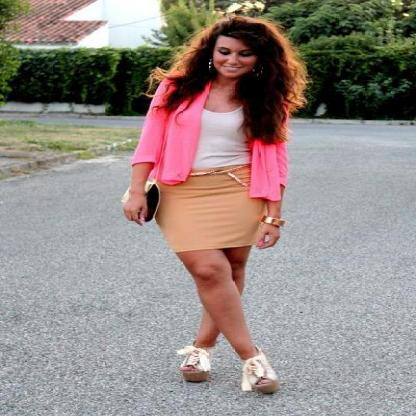jacket: (132, 96, 286, 200)
shirt: (193, 108, 250, 169)
shoe: (175, 341, 278, 398)
skirt: (162, 162, 261, 252)
